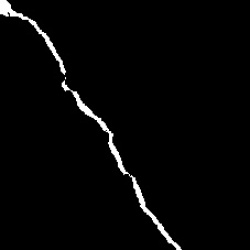crack: (3, 1, 184, 249)
